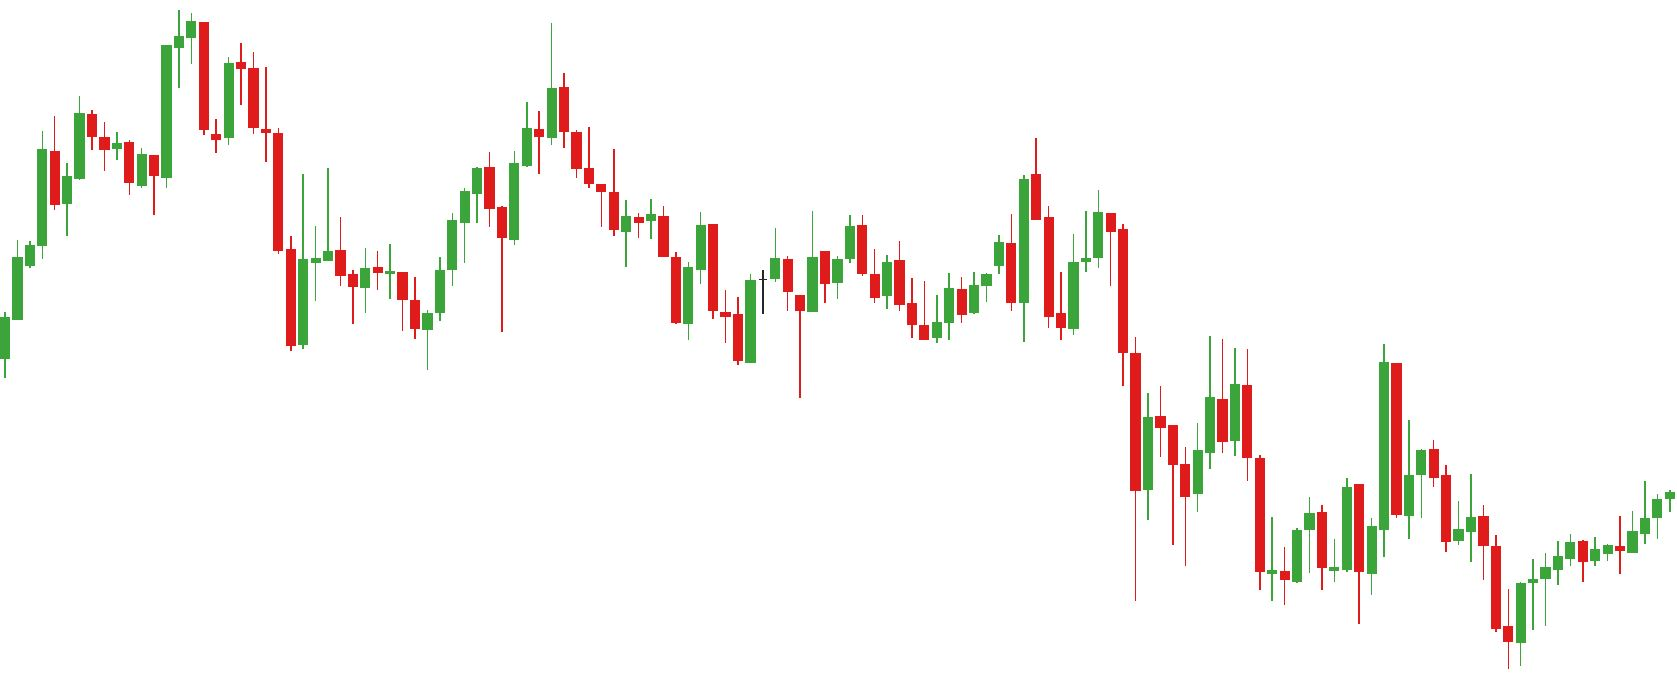buy: (345, 266, 433, 376), (729, 285, 806, 398)
sell: (845, 137, 1045, 276), (72, 7, 212, 158)
